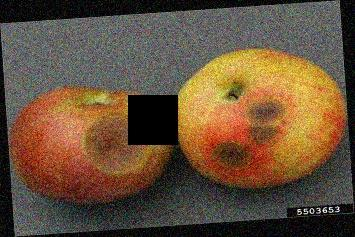rotten apple: (172, 46, 348, 200), (9, 81, 175, 206)
